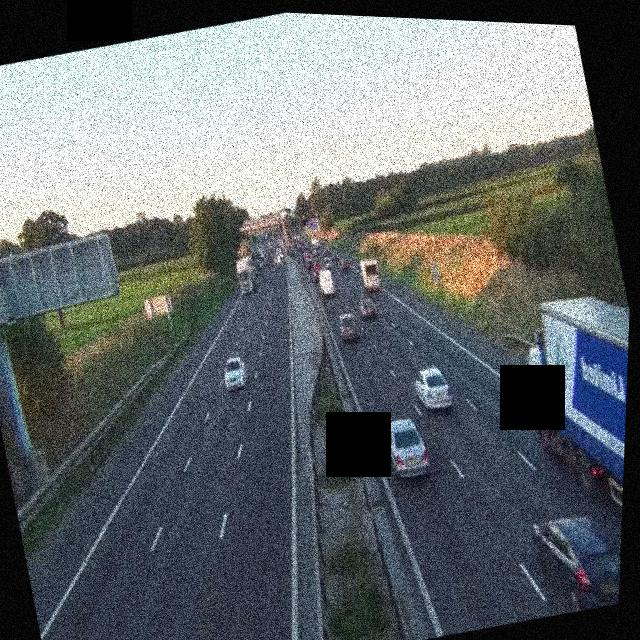bus: (355, 255, 384, 294)
car: (526, 503, 622, 618), (378, 414, 433, 483), (410, 363, 456, 416), (218, 354, 251, 392), (336, 311, 361, 342), (357, 295, 379, 321), (317, 272, 336, 298), (340, 258, 353, 275), (307, 260, 318, 273), (328, 247, 338, 261), (272, 253, 280, 266)
truck: (497, 283, 630, 601), (234, 252, 259, 294)
